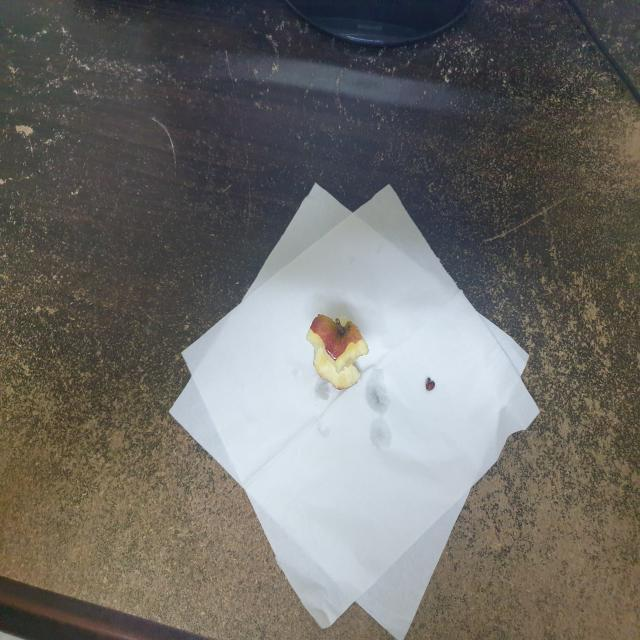apple: (304, 298, 371, 396)
